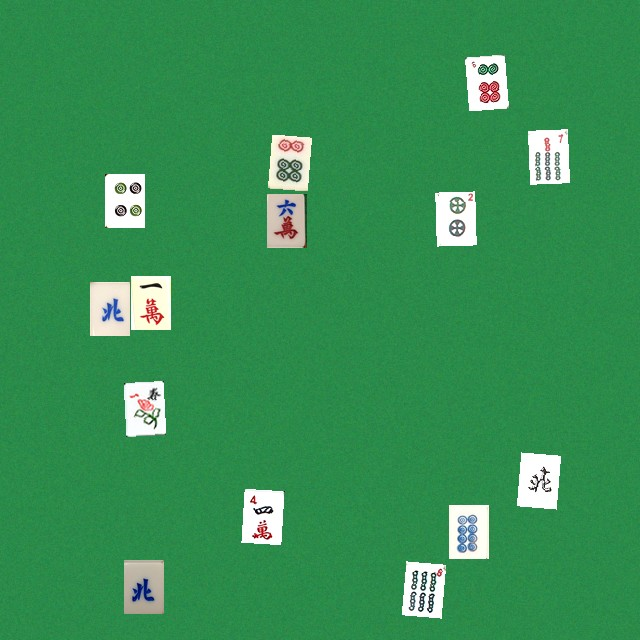tile: (435, 191, 475, 245), (464, 54, 504, 108), (527, 129, 567, 183), (401, 561, 441, 615), (89, 281, 129, 335), (241, 488, 281, 542), (267, 134, 307, 188), (516, 452, 556, 506), (123, 559, 163, 613), (266, 193, 306, 247), (448, 504, 488, 558), (104, 173, 144, 227), (130, 275, 170, 329), (123, 381, 163, 435)
